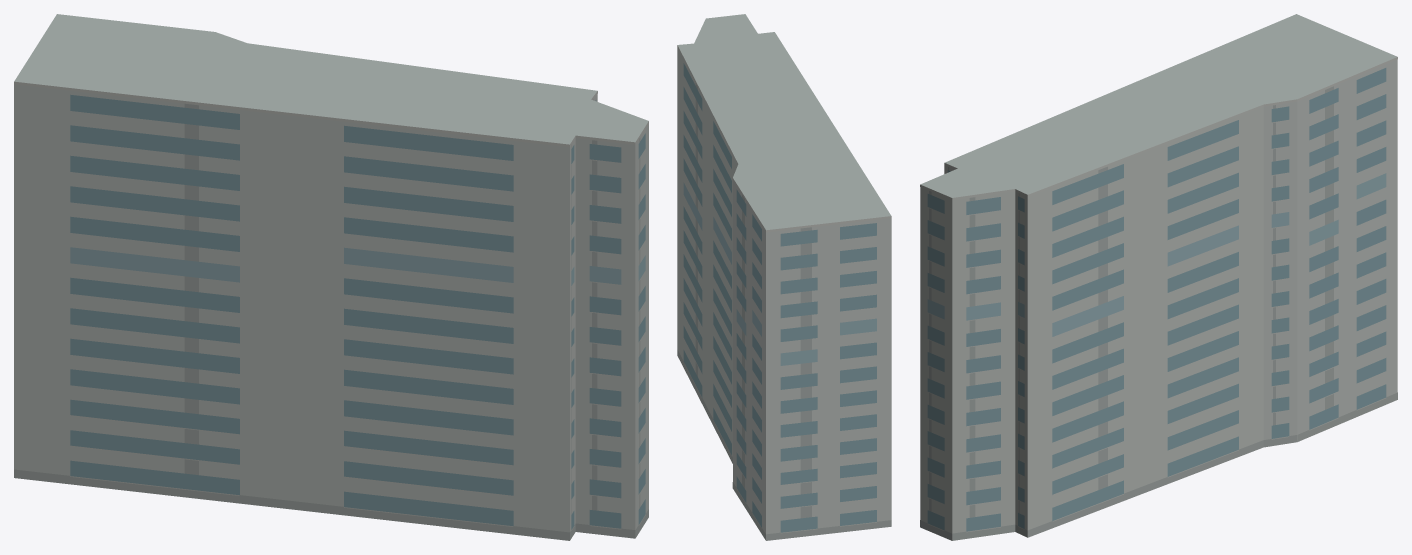
Rendered from residential-ab2dc583-baed-401b-a127-beb0ed7aac96.glb.
The picture shows the model from 3 angles, left to right: view 1: azimuth 30°, elevation 25°; view 2: azimuth 150°, elevation 25°; view 3: azimuth 270°, elevation 25°; orthographic projection. The views are drawn at different scales.
Visible parts, largest first — view 1: residential-ab2dc583-baed-401b-a127-beb0ed7aac96.tmp; view 2: residential-ab2dc583-baed-401b-a127-beb0ed7aac96.tmp; view 3: residential-ab2dc583-baed-401b-a127-beb0ed7aac96.tmp.
Boxes of the visible parts, x1,y1,x2,y2 form: residential-ab2dc583-baed-401b-a127-beb0ed7aac96.tmp: [14, 14, 648, 540]; residential-ab2dc583-baed-401b-a127-beb0ed7aac96.tmp: [677, 14, 891, 540]; residential-ab2dc583-baed-401b-a127-beb0ed7aac96.tmp: [920, 14, 1397, 540].
Bounding box in the file's own units: 40.28 × 35 × 44.19.
